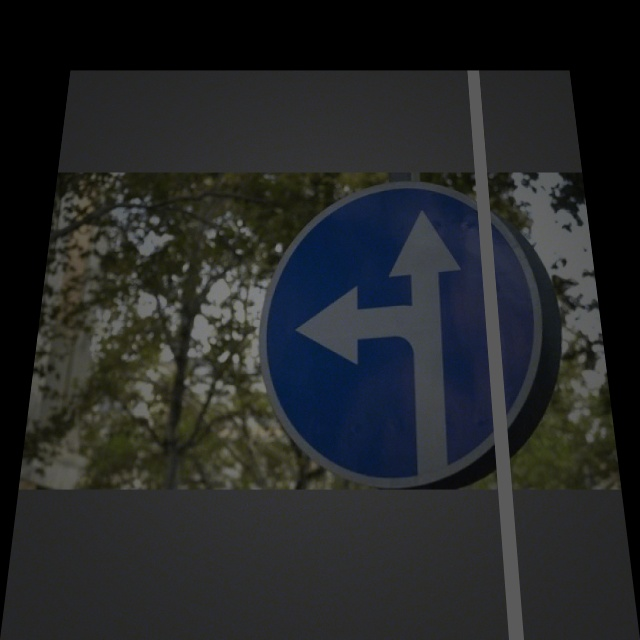Compulsory_Ahead_or_Turn_Left: (258, 183, 577, 479)
